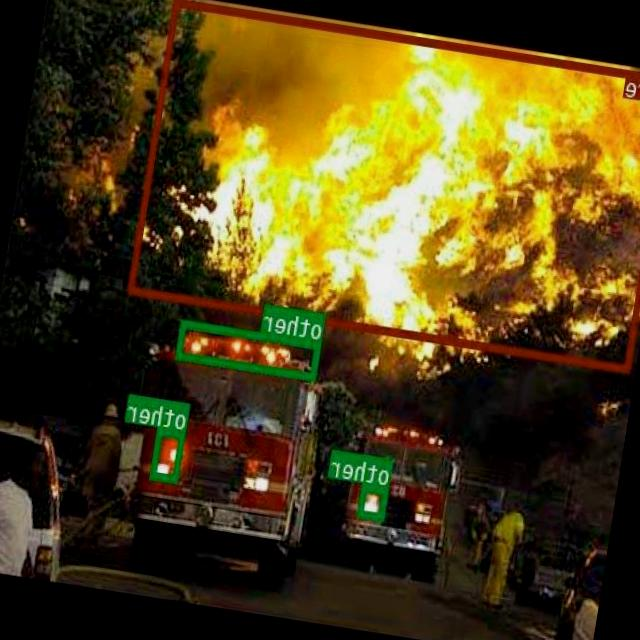fire: (129, 0, 640, 372)
